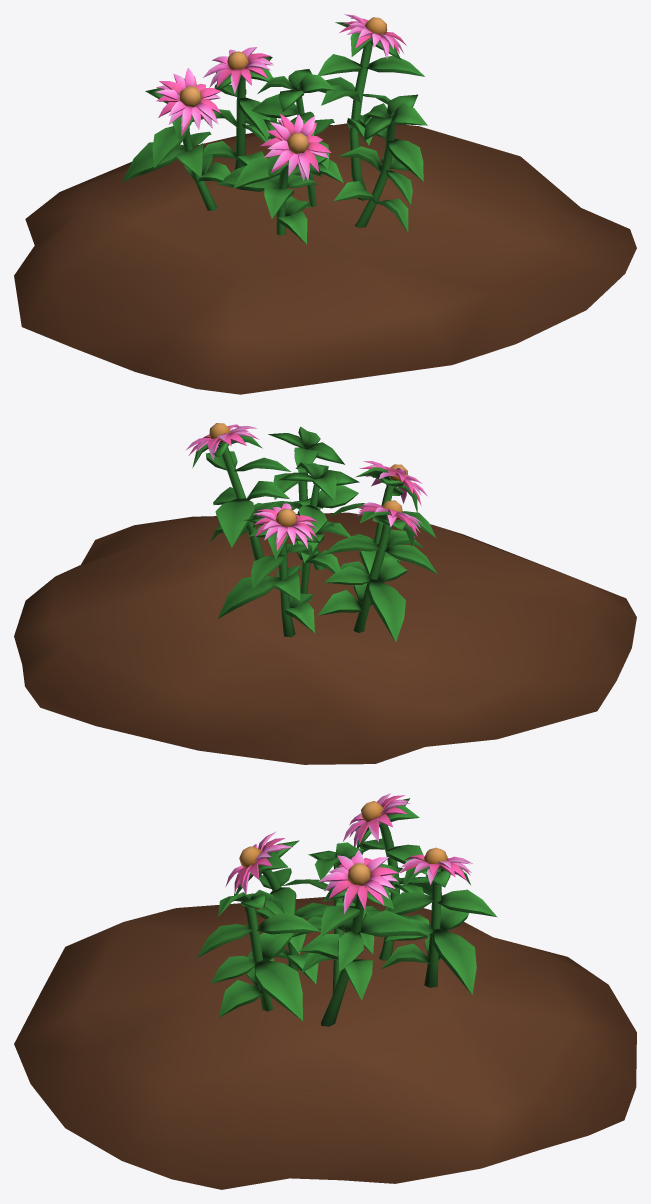
File: SM_PlantSoil_Echinacea_Lv3.fbx
3 views of the same model, one above another, from view 1: azimuth 30°, elevation 25°; view 2: azimuth 150°, elevation 25°; view 3: azimuth 270°, elevation 25° (orthographic). The views are drawn at different scales.
Parts seen in each view (by area): view 1: SM_PlantSoil_Echinacea_Lv3; view 2: SM_PlantSoil_Echinacea_Lv3; view 3: SM_PlantSoil_Echinacea_Lv3.
Boxes of the visible parts, x1,y1,x2,y2 form: SM_PlantSoil_Echinacea_Lv3: (14, 14, 636, 394); SM_PlantSoil_Echinacea_Lv3: (14, 423, 636, 764); SM_PlantSoil_Echinacea_Lv3: (14, 793, 636, 1189).
Size of the model in its own units: 118 by 43.56 by 106.
